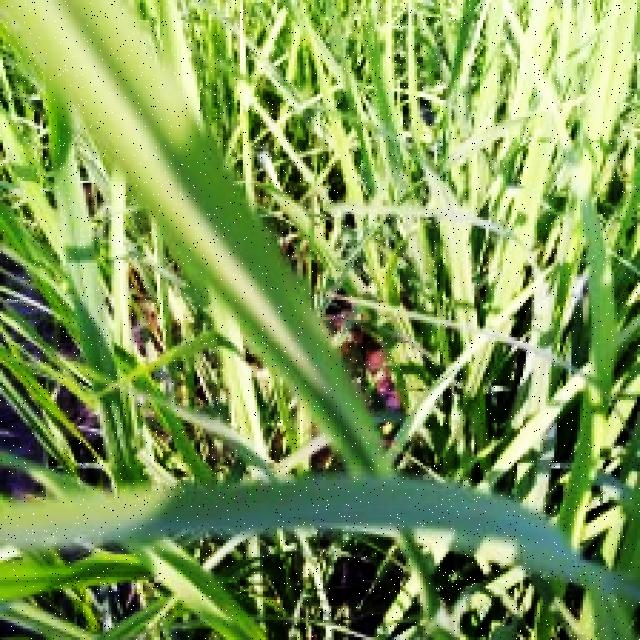health: (5, 0, 640, 617)
